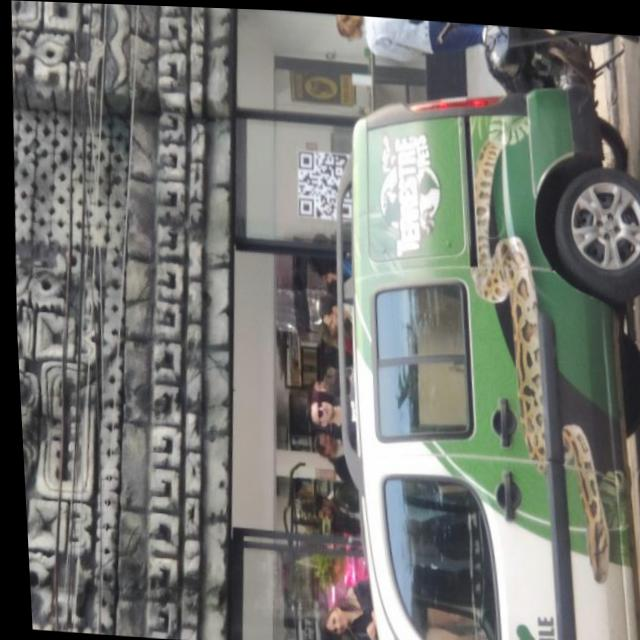qrcode: (295, 148, 352, 217)
